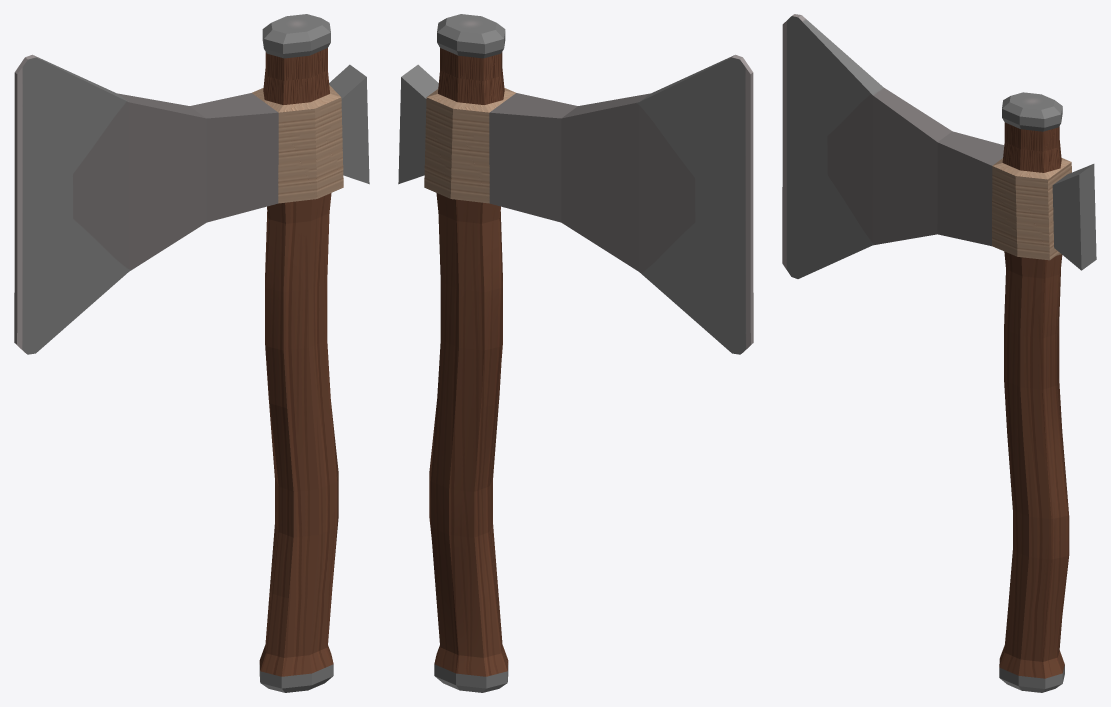
The model's file is Axe.fbx.
The picture shows the model from 3 angles, left to right: view 1: azimuth 30°, elevation 25°; view 2: azimuth 150°, elevation 25°; view 3: azimuth 330°, elevation 25°; orthographic projection. The views are drawn at different scales.
Parts seen in each view (by area): view 1: Axe; view 2: Axe; view 3: Axe.
Boxes of the visible parts, box(x1,y1,x2,y2) form: Axe: box(14, 14, 369, 692); Axe: box(398, 14, 753, 692); Axe: box(782, 14, 1096, 692).
Size of the model in its own units: 42.86 by 81.85 by 7.98.
